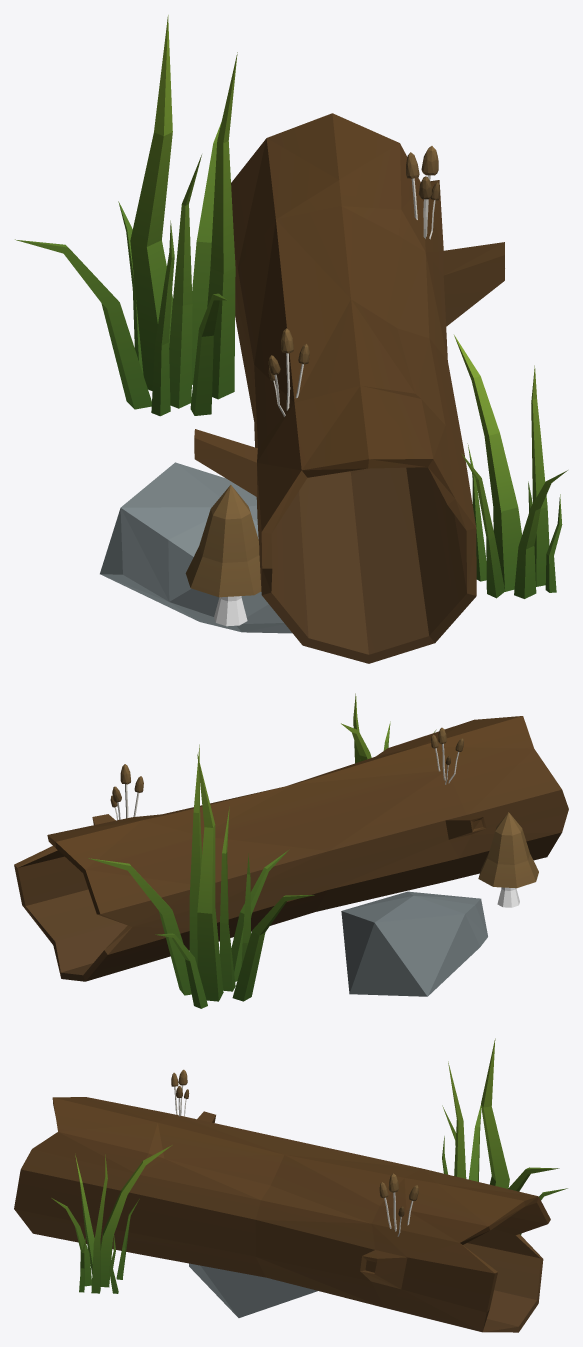
The model's file is Log_03.fbx.
3 renders of one model, top to bottom at view 1: azimuth 30°, elevation 25°; view 2: azimuth 150°, elevation 25°; view 3: azimuth 270°, elevation 25°, orthographic. The views are drawn at different scales.
Parts seen in each view (by area): view 1: Log_03; view 2: Log_03; view 3: Log_03.
Part boxes in pixels (x1,y1,x2,y2): Log_03: (15, 15, 567, 663); Log_03: (14, 693, 568, 1008); Log_03: (14, 1038, 567, 1332).
Bounding box in the file's own units: 0.8643 × 0.746 × 1.26.
